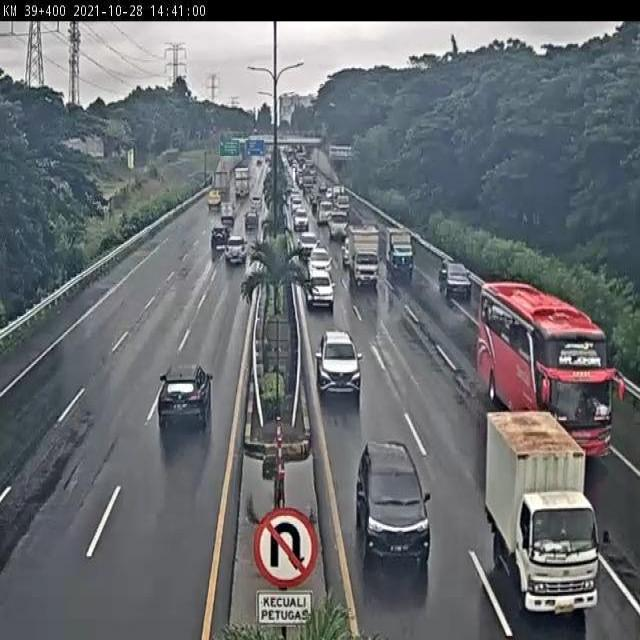car: (354, 439, 431, 565), (156, 365, 216, 432), (316, 328, 362, 396), (438, 257, 472, 299), (304, 268, 334, 311), (223, 233, 249, 263), (209, 226, 232, 250)
truck: (479, 280, 614, 468), (485, 408, 600, 615), (348, 226, 379, 286), (385, 224, 415, 276)
